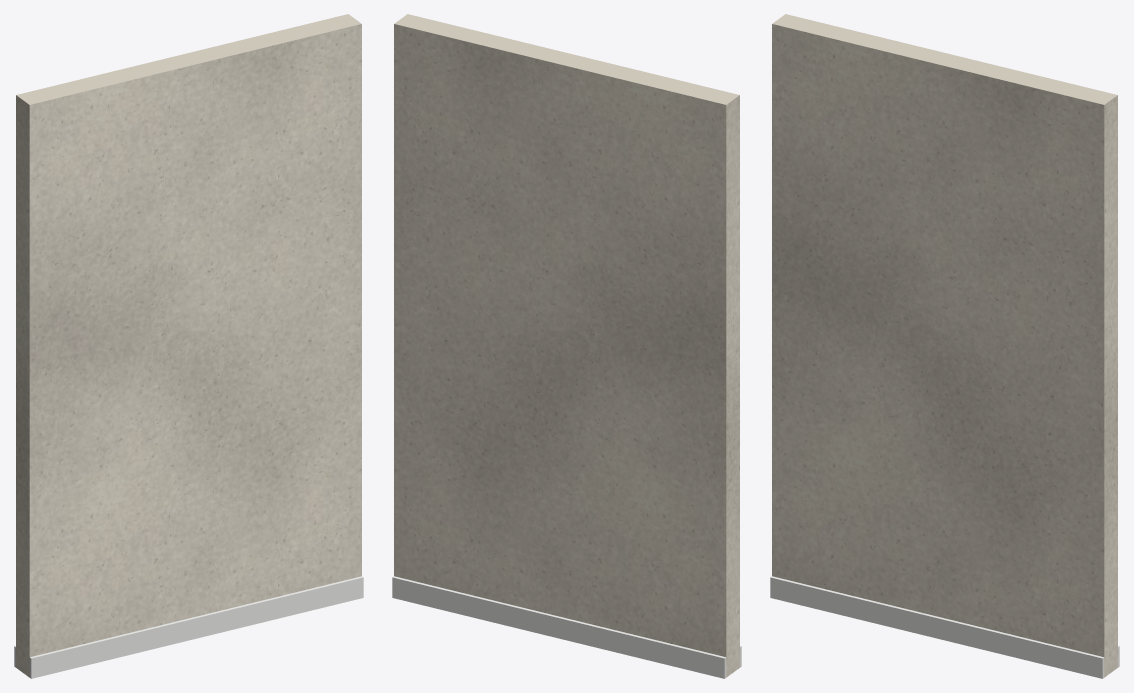
The model's file is interior_wall_end.glb.
The picture shows the model from 3 angles, left to right: view 1: azimuth 30°, elevation 25°; view 2: azimuth 150°, elevation 25°; view 3: azimuth 330°, elevation 25°; orthographic projection.
Parts seen in each view (by area): view 1: interior_wall_end_plaster, interior_wall_end_trim; view 2: interior_wall_end_plaster, interior_wall_end_trim; view 3: interior_wall_end_plaster, interior_wall_end_trim.
Part boxes in pixels (<box>): interior_wall_end_plaster: <box>16,14,361,677</box>; interior_wall_end_trim: <box>14,576,363,678</box>; interior_wall_end_plaster: <box>394,14,739,677</box>; interior_wall_end_trim: <box>392,576,741,678</box>; interior_wall_end_plaster: <box>772,14,1117,677</box>; interior_wall_end_trim: <box>770,576,1119,678</box>.
Bounding box in the file's own units: 1.7 × 2.8 × 0.15.
2 materials, 1 textured.
